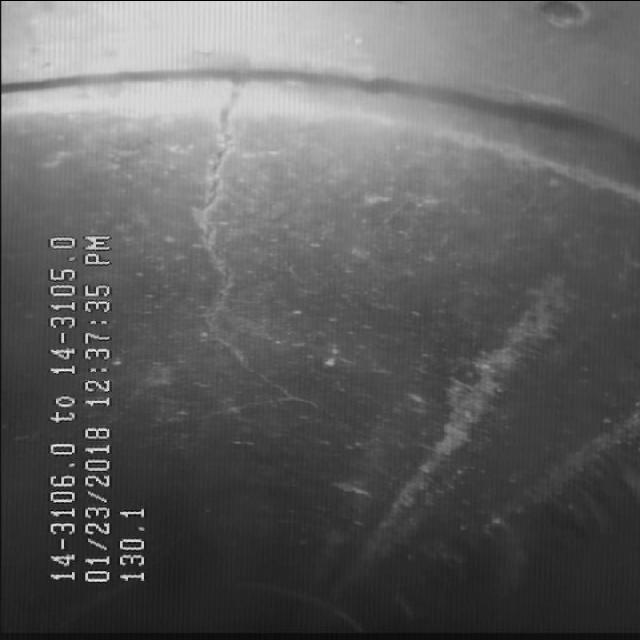Crack: (167, 109, 276, 382)
